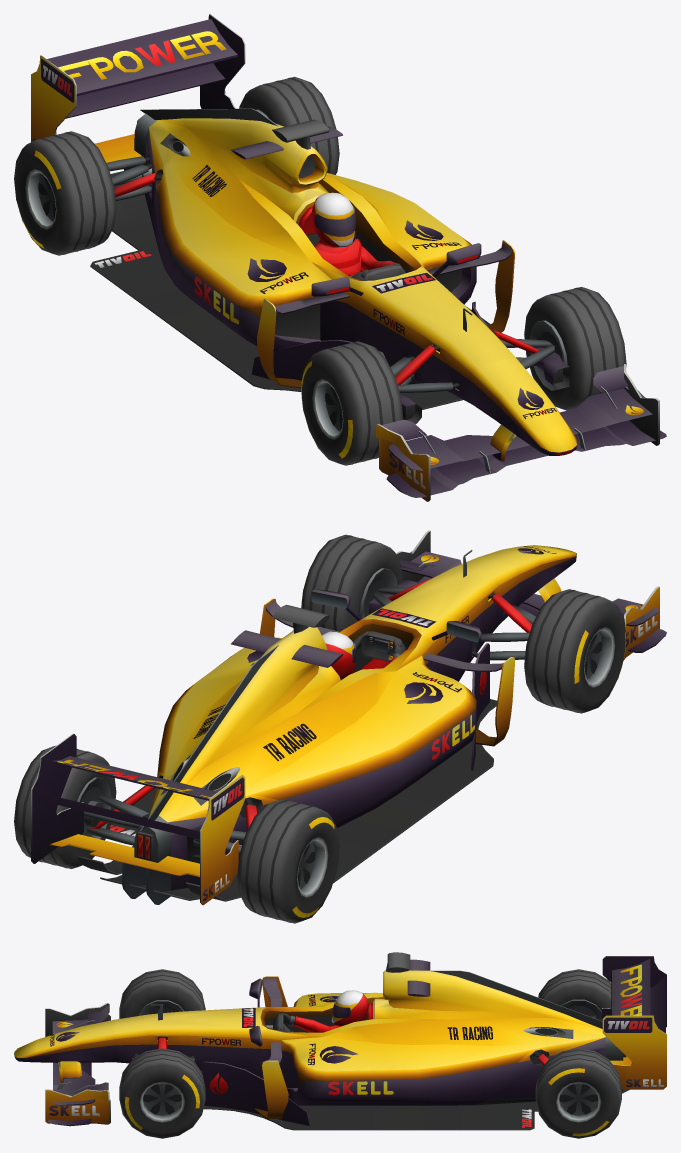
The model's file is Race_Car_7A.fbx.
3 views of the same model, one above another, from view 1: azimuth 30°, elevation 25°; view 2: azimuth 150°, elevation 25°; view 3: azimuth 270°, elevation 25° (orthographic). The views are drawn at different scales.
Parts seen in each view (by area): view 1: Race_Car_7A_Body, Race_Car_7A_Rear_Wing, Race_Car_7A_Front_Wing, Wheel_7A_R.R, Wheel_7A_F.R, Wheel_7A_F.L, Race_Car_7A_Nose, Wheel_7A_R.L, Race_Car_7A_Body_Livery, Race_Car_7A_Rear_Wing_Livery, Helmet_7A, Wheel_Pivot_7A_F.L (+4 smaller); view 2: Race_Car_7A_Body, Race_Car_7A_Rear_Wing, Wheel_7A_F.R, Wheel_7A_R.R, Wheel_7A_F.L, Race_Car_7A_Front_Wing, Wheel_7A_R.L, Race_Car_7A_Body_Livery, Race_Car_7A_Nose, Suspension_7A_R.L, Suspension_7A_F.R, Wheel_Pivot_7A_F.L (+6 smaller); view 3: Race_Car_7A_Body, Race_Car_7A_Rear_Wing, Wheel_7A_F.L, Wheel_7A_R.L, Race_Car_7A_Front_Wing, Race_Car_7A_Nose, Wheel_7A_F.R, Race_Car_7A_Body_Livery, Wheel_7A_R.R, Race_Car_7A_Rear_Wing_Livery, Helmet_7A, Driver_7A (+3 smaller).
Part boxes in pixels (x1,y1,x2,y2): Race_Car_7A_Body: (90,108,516,409); Race_Car_7A_Rear_Wing: (31,14,245,162); Race_Car_7A_Front_Wing: (376,364,666,501); Wheel_7A_R.R: (14,131,116,255); Wheel_7A_F.R: (301,341,403,465); Wheel_7A_F.L: (524,287,626,410); Race_Car_7A_Nose: (473,358,576,461); Wheel_7A_R.L: (239,76,339,174); Race_Car_7A_Body_Livery: (94,165,461,335); Race_Car_7A_Rear_Wing_Livery: (32,31,226,140); Helmet_7A: (311,192,356,247); Wheel_Pivot_7A_F.L: (529,320,569,390); Race_Car_7A_Body: (77,549,520,904); Race_Car_7A_Rear_Wing: (31,733,245,905); Wheel_7A_F.R: (524,589,626,713); Wheel_7A_R.R: (237,799,339,923); Wheel_7A_F.L: (301,534,402,631); Race_Car_7A_Front_Wing: (395,530,666,660); Wheel_7A_R.L: (14,745,116,868); Race_Car_7A_Body_Livery: (109,609,486,836); Race_Car_7A_Nose: (478,545,576,604); Suspension_7A_R.L: (84,785,154,845); Suspension_7A_F.R: (472,593,535,660); Wheel_Pivot_7A_F.L: (359,568,417,618); Race_Car_7A_Body: (114,952,629,1130); Race_Car_7A_Rear_Wing: (602,956,666,1089); Wheel_7A_F.L: (119,1048,205,1138); Wheel_7A_R.L: (535,1048,621,1138); Race_Car_7A_Front_Wing: (45,1003,110,1126); Race_Car_7A_Nose: (14,1019,114,1082); Wheel_7A_F.R: (119,969,205,1018); Race_Car_7A_Body_Livery: (202,995,531,1127); Wheel_7A_R.R: (538,969,611,1011); Race_Car_7A_Rear_Wing_Livery: (608,964,664,1087); Helmet_7A: (331,990,368,1026); Driver_7A: (276,1013,340,1032).
Size of the model in its own units: 2.27 by 1.44 by 6.37.
